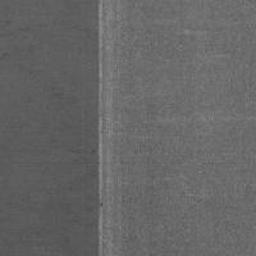Welding line: (95, 0, 105, 256)
